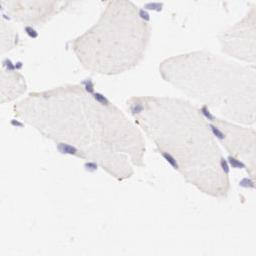nucleus: (161, 151, 179, 169), (144, 1, 165, 13), (57, 143, 76, 154), (210, 126, 225, 139), (80, 79, 93, 94), (238, 177, 254, 189), (229, 156, 243, 169), (94, 92, 109, 104), (25, 25, 38, 38), (201, 106, 214, 119), (83, 161, 98, 171), (3, 58, 13, 71), (139, 9, 150, 20), (133, 103, 145, 113), (221, 159, 229, 172), (10, 120, 25, 126), (15, 61, 23, 70), (2, 14, 11, 22), (1, 6, 3, 9)
